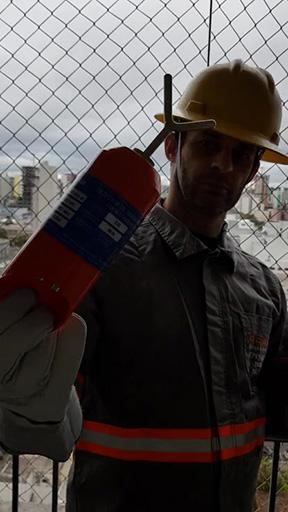Detector_Tensao_Contato: (1, 73, 215, 331)
